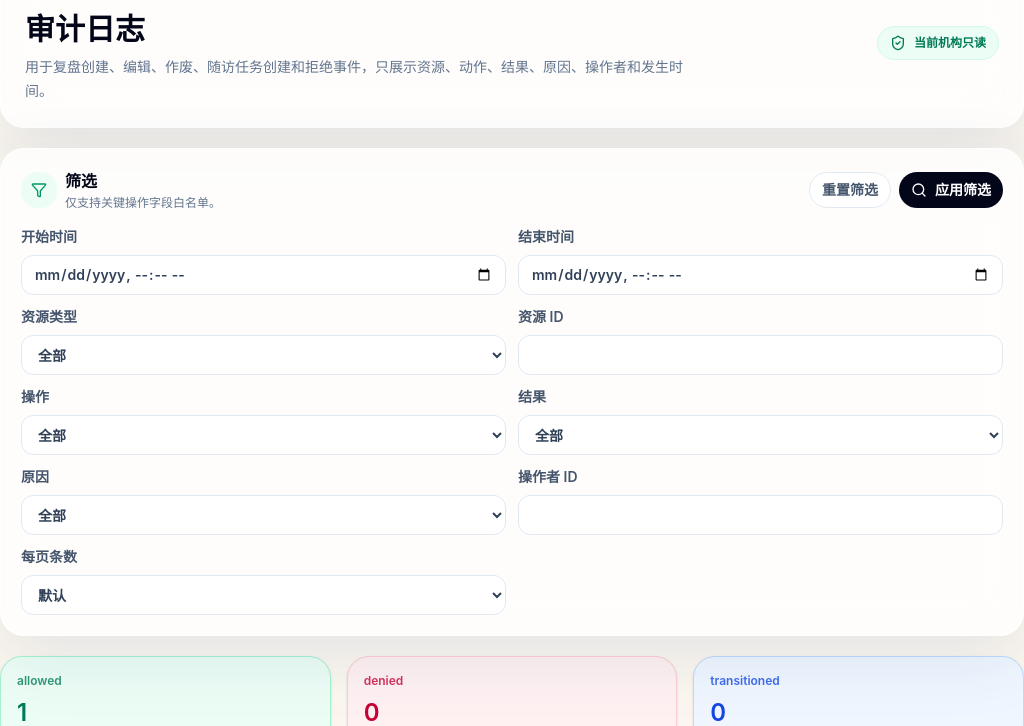
Test: 机构业务页面壳 › 审计日志从成功结果切换到失败时清除旧记录、分页和统计
Click the button "应用筛选": (951, 190) [899,172,1003,208]
(page scrolled)
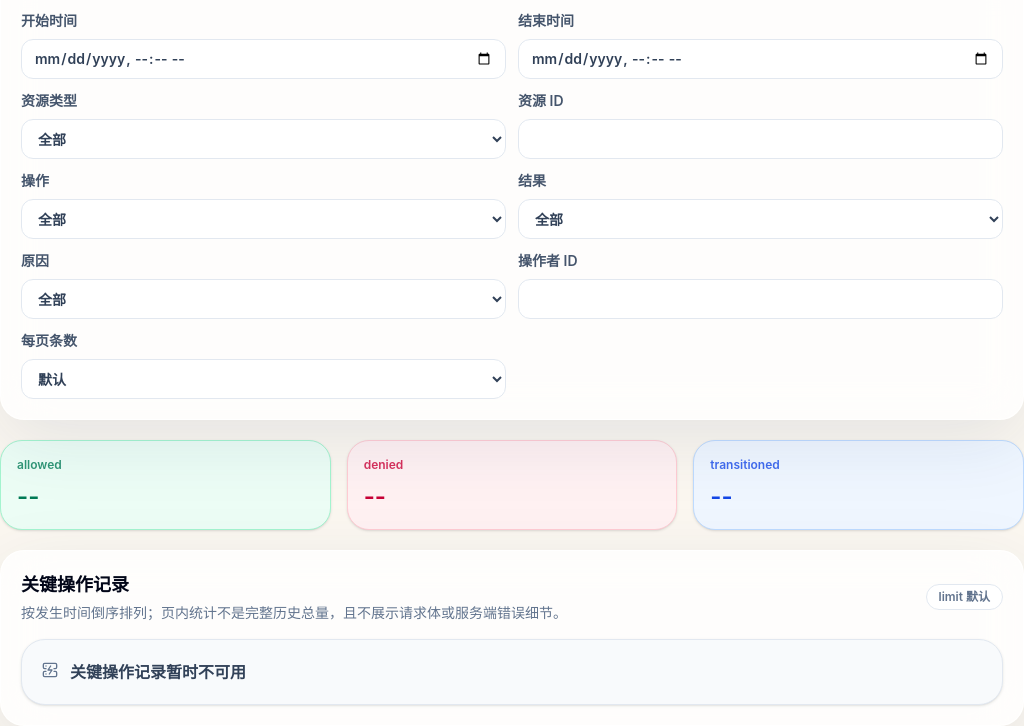
Expected: the text "关键操作记录暂时不可用" is shown, [70,660,246,684]
Expected: the text "limit 默认" is shown, [926,584,1003,610]
